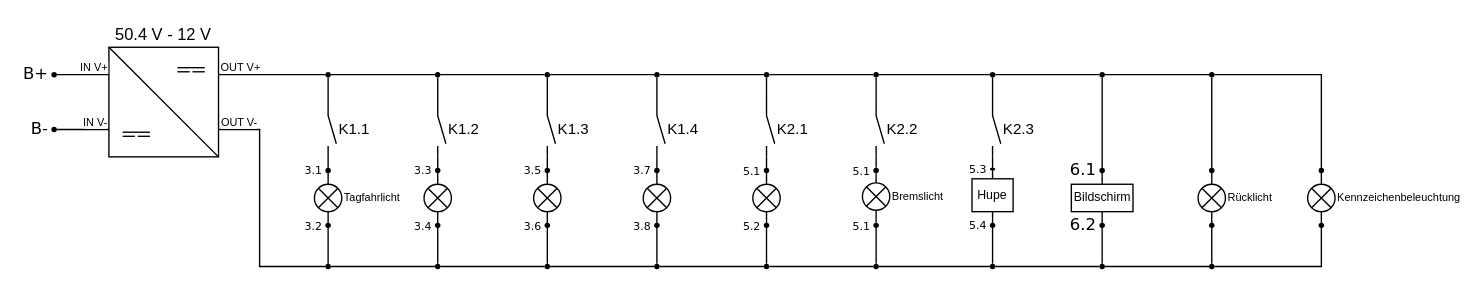
Image size: 1484x292. Some labels were removed from this diagram. Here are the shapes that lost their labels. From the top down, the centre of each, then its label:
(437,197): Abblendlicht
(546,197): Aufblendlicht
(656,197): Blinker Links
(765,197): Blinker Rechts
